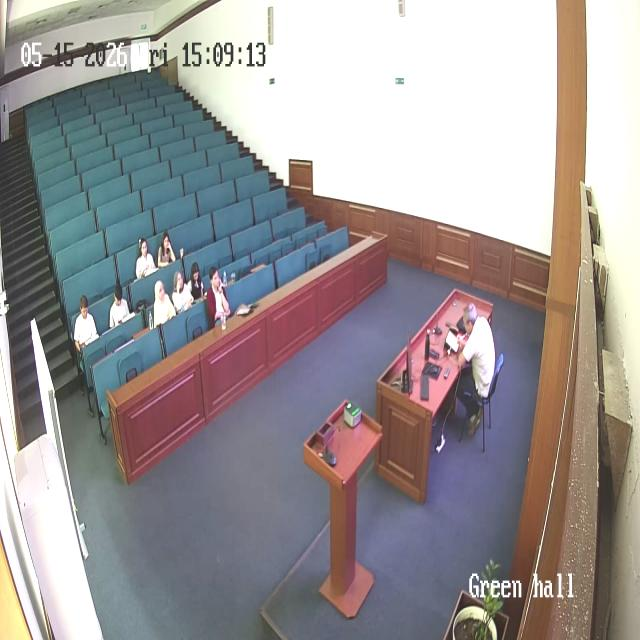person: (453, 302, 495, 438), (73, 295, 99, 356), (205, 266, 230, 328), (153, 279, 177, 330), (171, 269, 195, 314), (108, 283, 130, 329), (135, 236, 157, 280), (186, 261, 208, 304), (157, 230, 176, 267)
